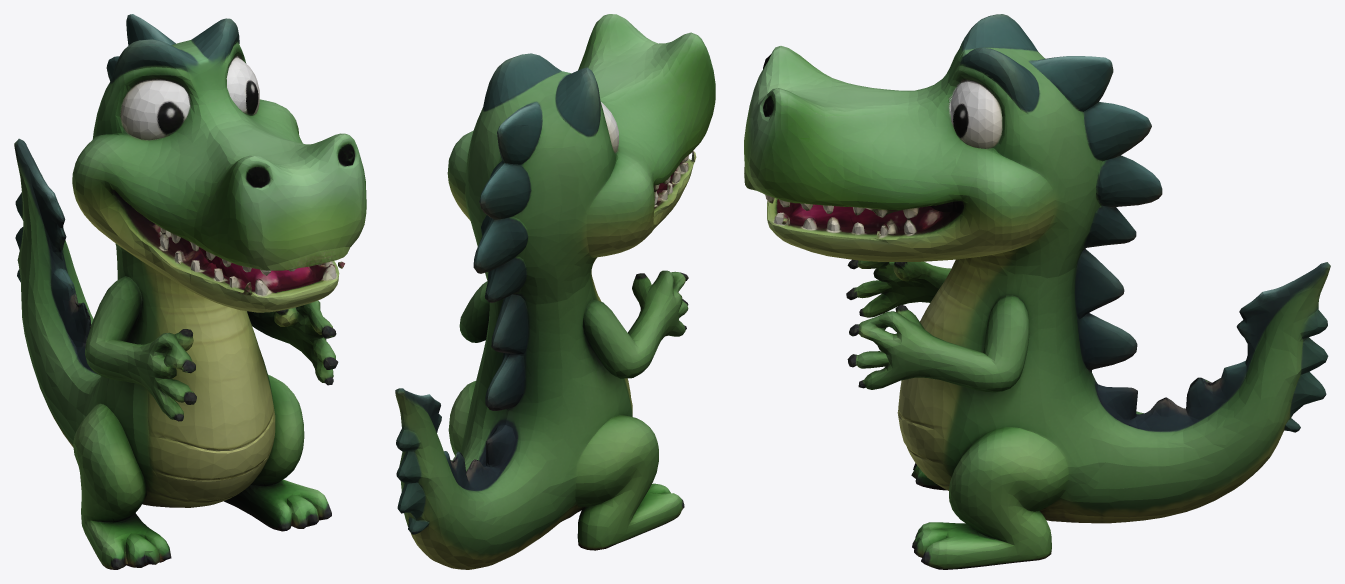
File: crocodileModel.glb
3 renders of one model, left to right at view 1: azimuth 30°, elevation 25°; view 2: azimuth 150°, elevation 25°; view 3: azimuth 270°, elevation 25°, orthographic. The views are drawn at different scales.
Visible parts, largest first — view 1: world; view 2: world; view 3: world.
Boxes of the visible parts, x1,y1,x2,y2 form: world: [14, 14, 366, 569]; world: [395, 14, 715, 569]; world: [744, 14, 1330, 569].
Bounding box in the file's own units: 0.4251 × 0.9145 × 0.9901.
1 material, 1 textured.
